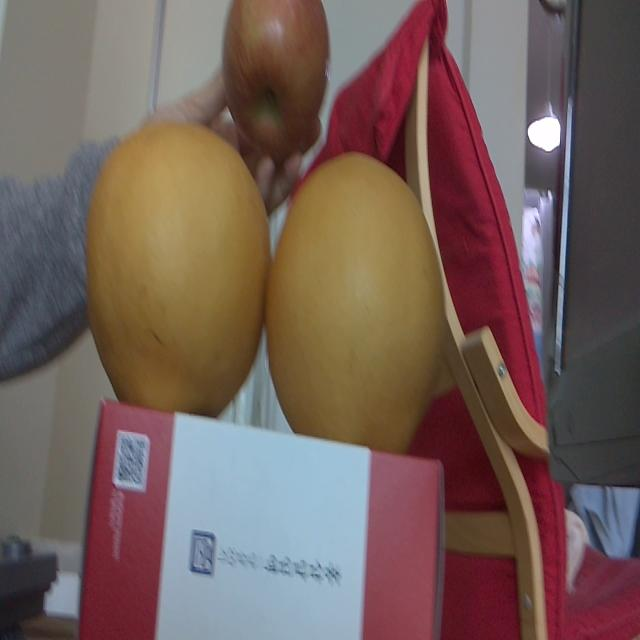apple: (223, 0, 330, 160)
pear: (87, 122, 271, 416), (266, 154, 446, 446)
